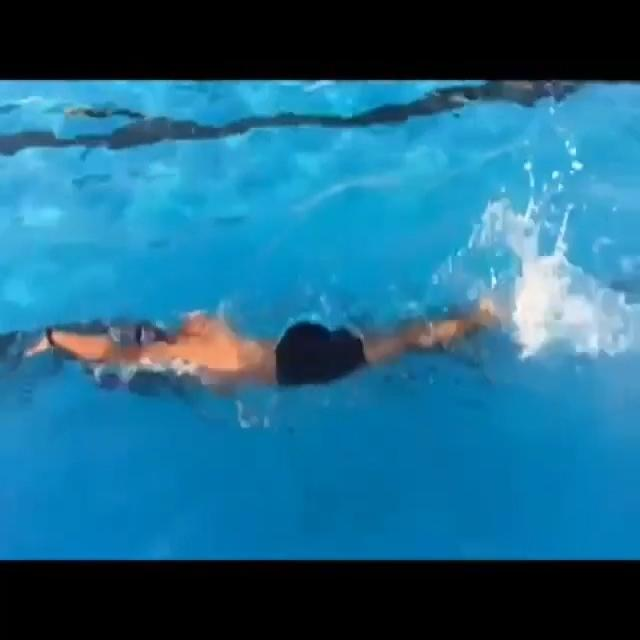Swimming: (9, 230, 596, 423)
